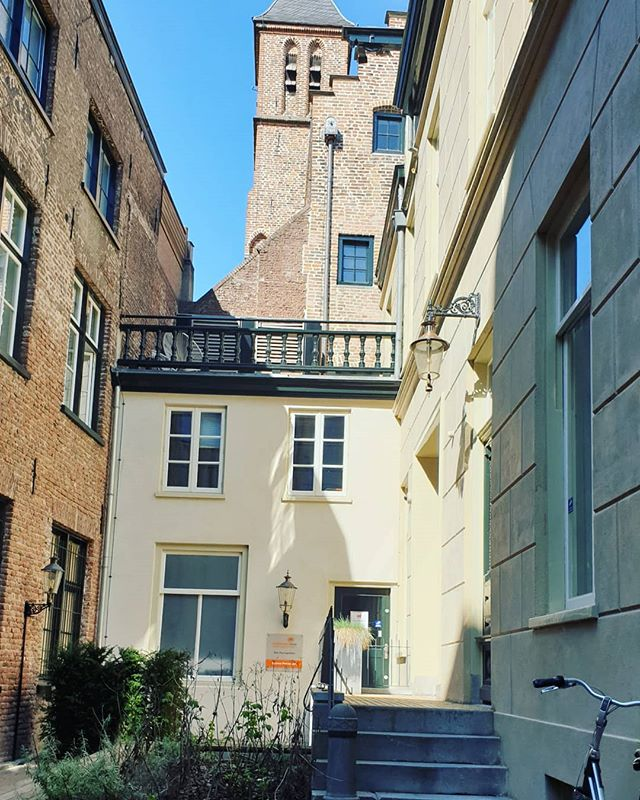building: (393, 19, 640, 800), (1, 7, 176, 800), (106, 326, 401, 735), (230, 1, 410, 327)
